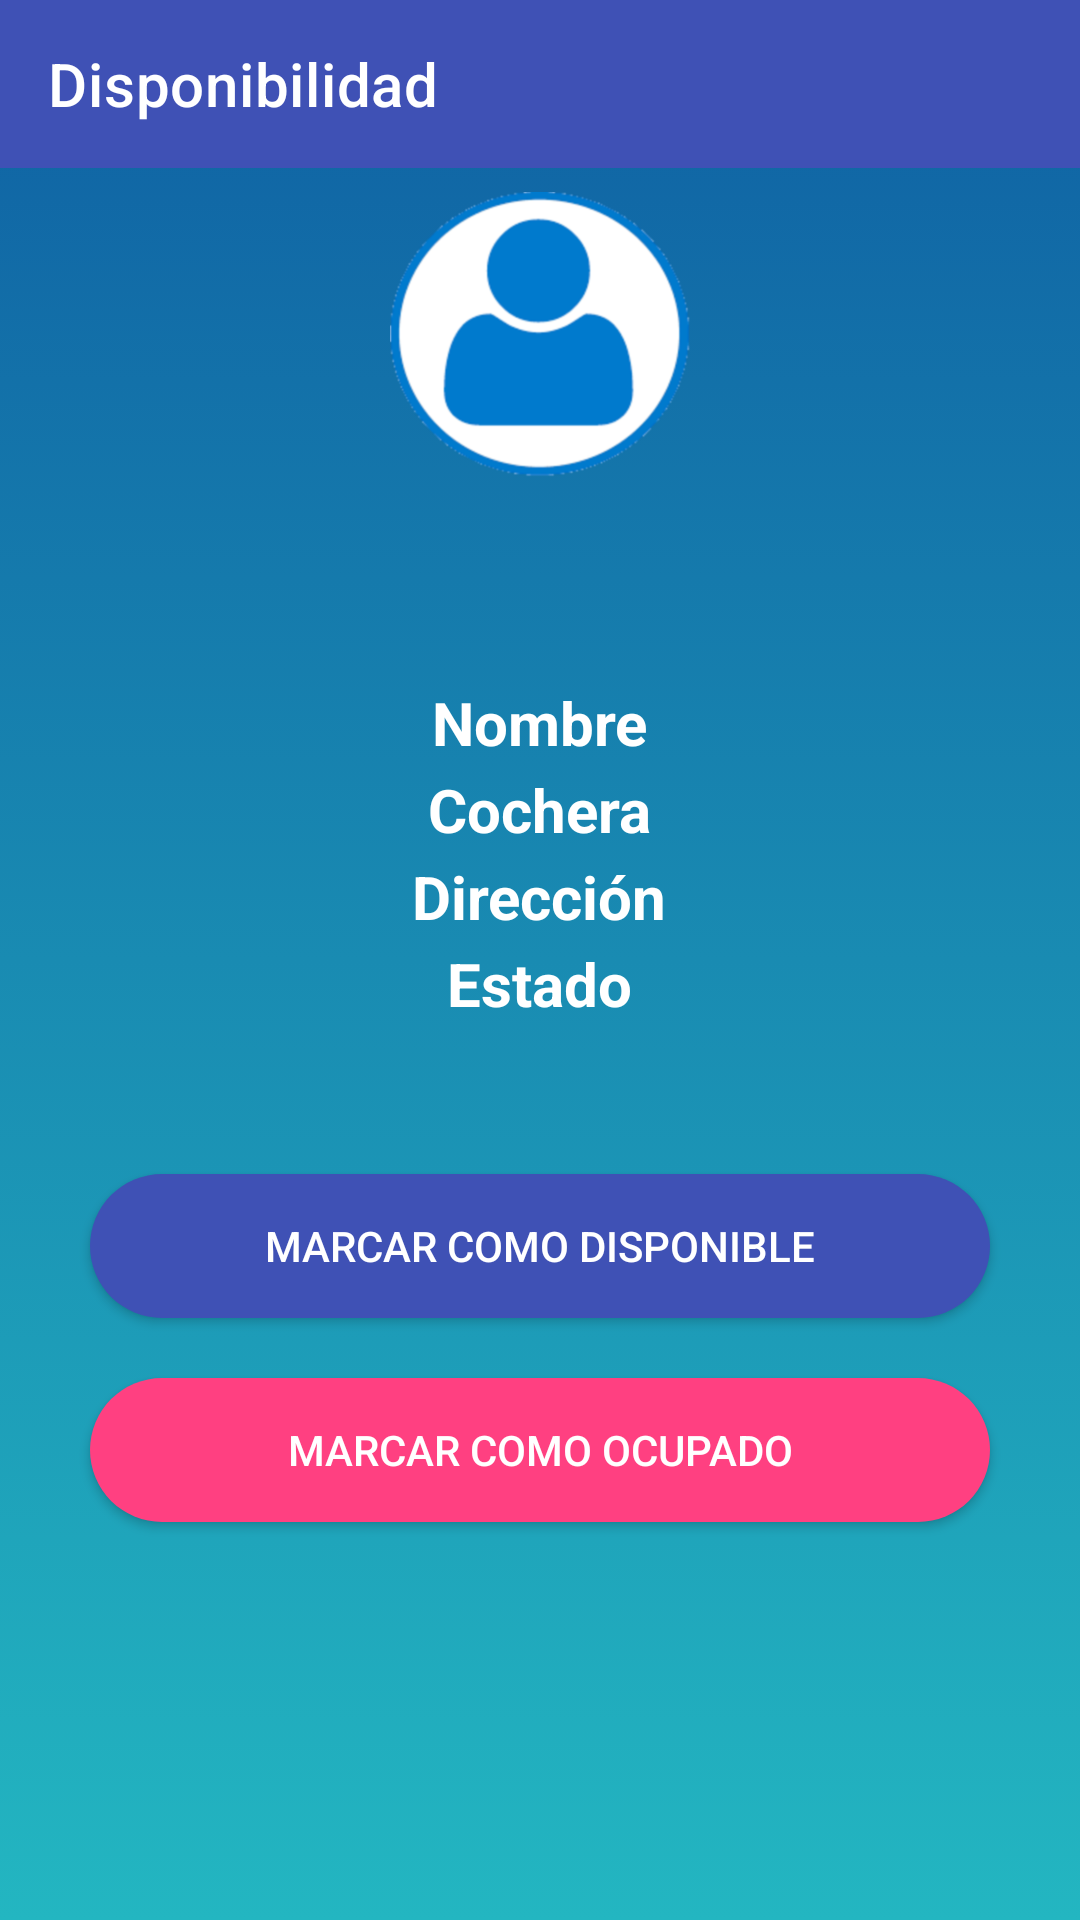

Icon bounding boxes for this 1080x1920 phone screenshot, format [x1,y1,x2,y2]:
user: [390,192,689,476]
